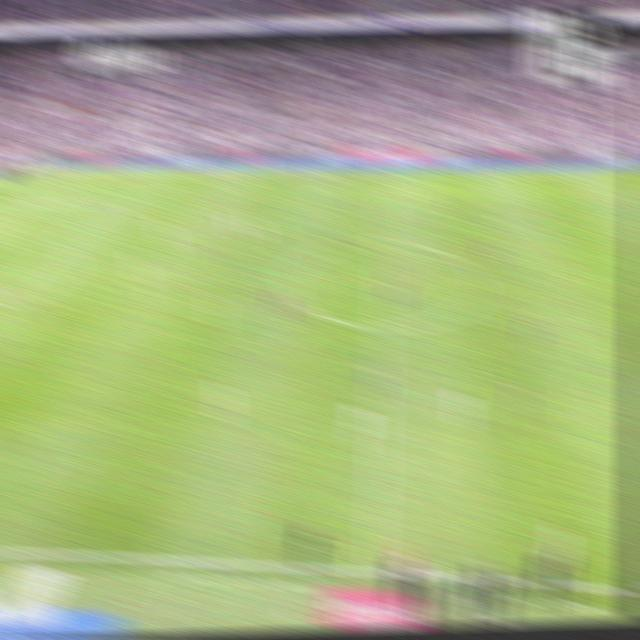bigarea_top_inner: (95, 195, 114, 211)
corner: (24, 163, 44, 176)
halfcircle_bottom: (371, 312, 394, 341)
halfcircle_top: (373, 229, 396, 252)
midline_bottom_intersection: (364, 559, 388, 580)
midline_top_intersection: (378, 165, 396, 180)
top_arc_area_intersection: (52, 233, 70, 250)
